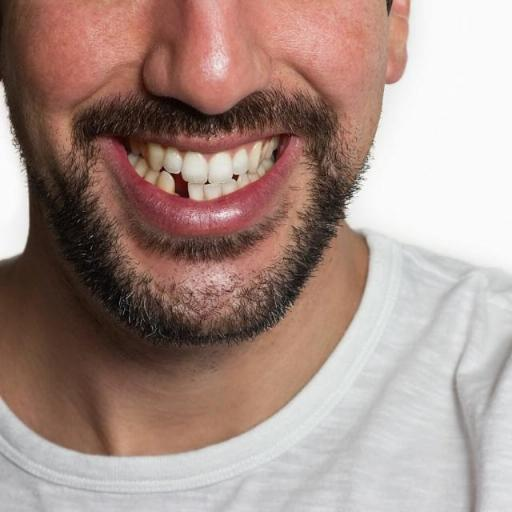spaced: (174, 180, 190, 204)
